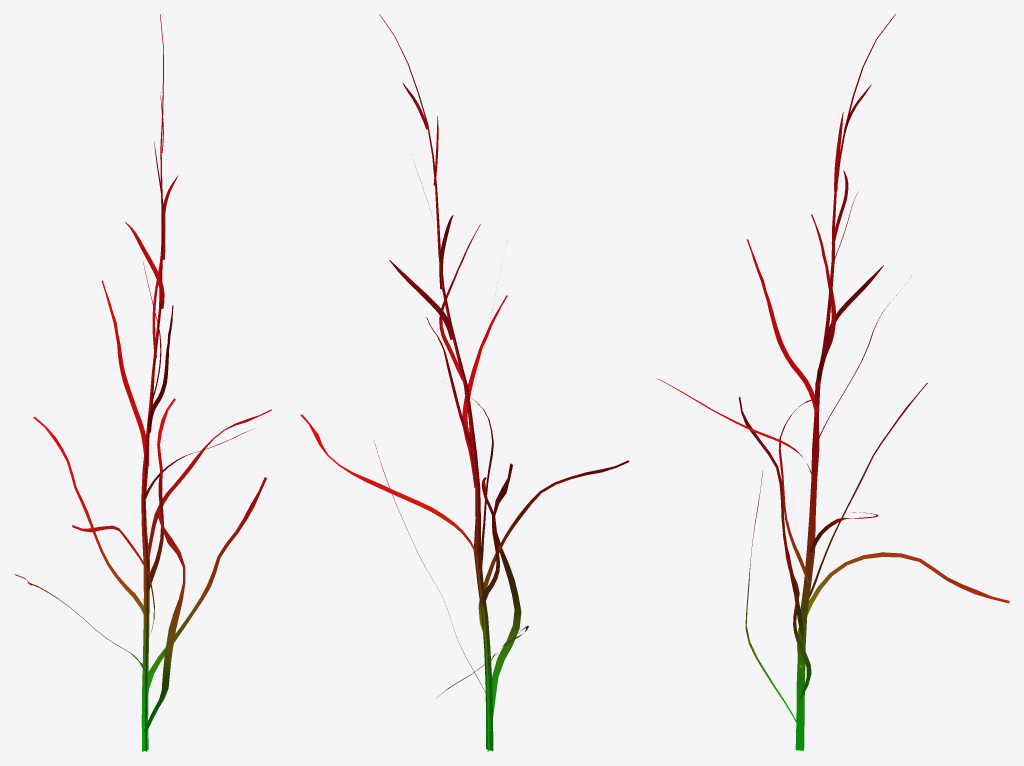
The model's file is Swamp Grass_LOD1_Var8_tefocd1r.fbx.
3 views of the same model, side by side, from view 1: azimuth 30°, elevation 25°; view 2: azimuth 150°, elevation 25°; view 3: azimuth 270°, elevation 25° (orthographic). The views are drawn at different scales.
Visible parts, largest first — view 1: merge1; view 2: merge1; view 3: merge1.
Part boxes in pixels (x1,y1,x2,y2): merge1: (14, 14, 271, 751); merge1: (300, 14, 629, 751); merge1: (658, 14, 1009, 750).
Size of the model in its own units: 23.99 by 63.28 by 26.26.
